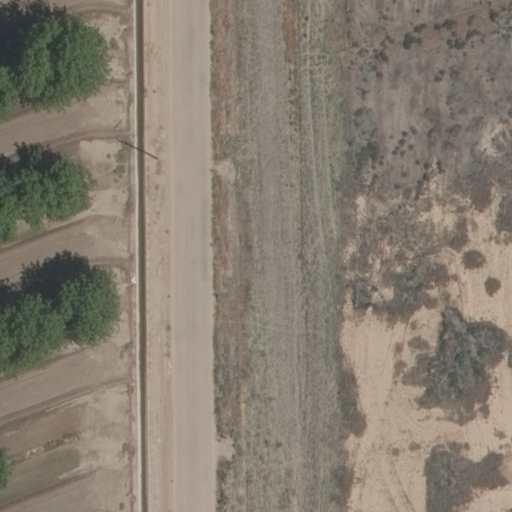DT: (146, 150, 165, 167)
